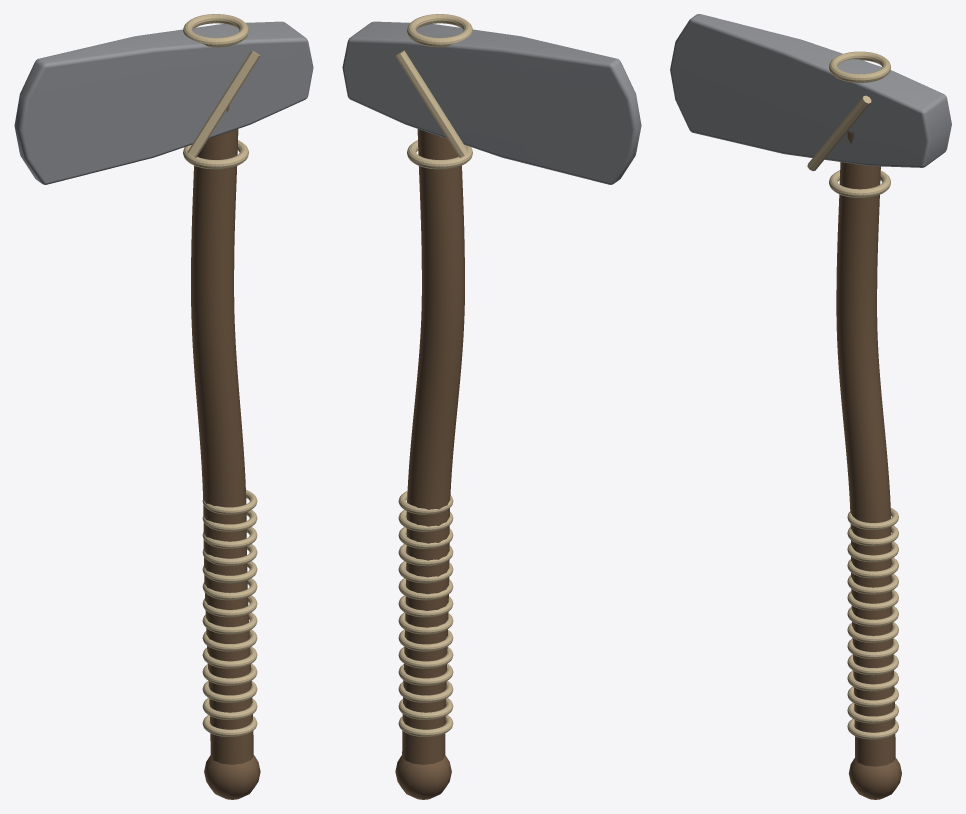
File: machado-pedra.glb
3 renders of one model, left to right at view 1: azimuth 30°, elevation 25°; view 2: azimuth 150°, elevation 25°; view 3: azimuth 330°, elevation 25°, orthographic. The views are drawn at different scales.
Visible parts, largest first — view 1: Machado_De_Pedra; view 2: Machado_De_Pedra; view 3: Machado_De_Pedra.
Part boxes in pixels (x1,y1,x2,y2): Machado_De_Pedra: (14, 14, 313, 799); Machado_De_Pedra: (342, 14, 641, 799); Machado_De_Pedra: (670, 14, 951, 799).
Size of the model in its own units: 0.245 by 0.6408 by 0.056.
